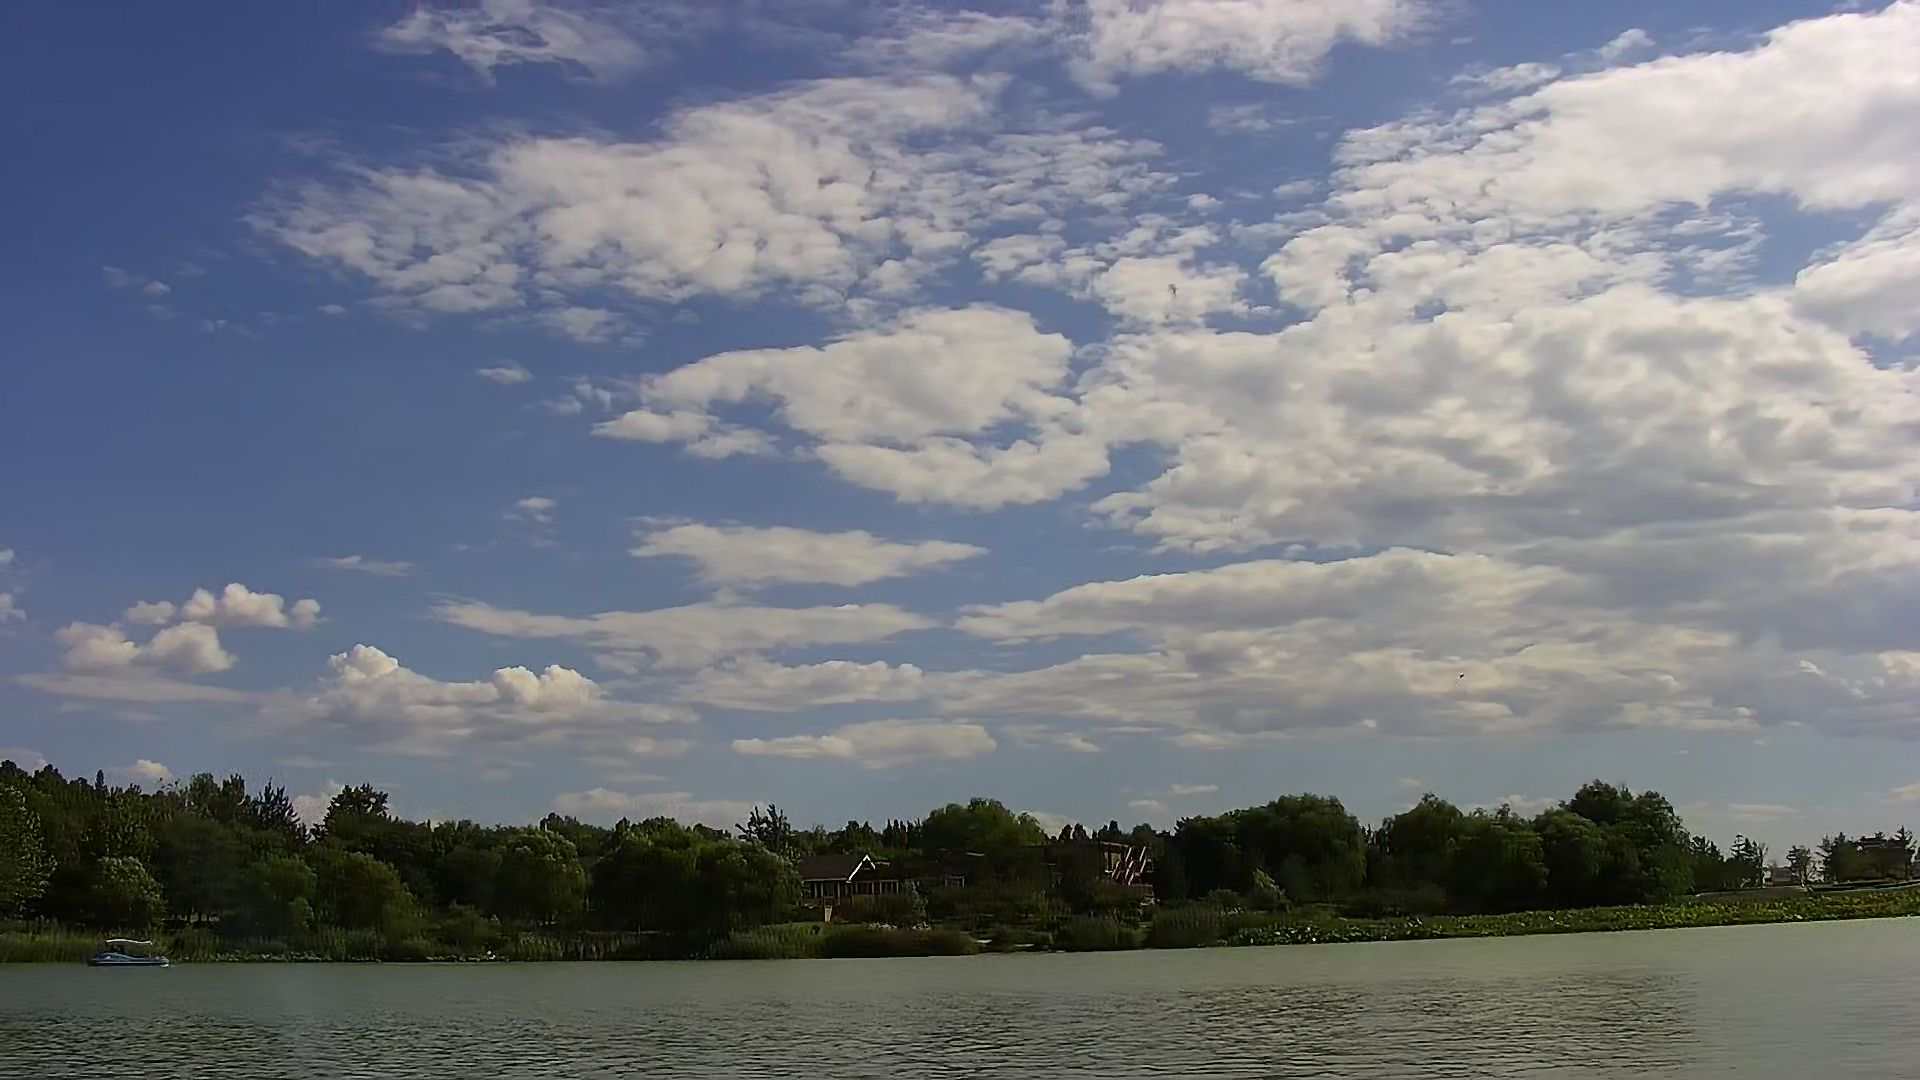boat: (88, 928, 178, 978)
